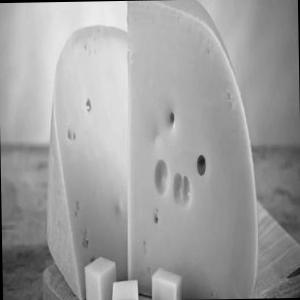cheese: (5, 2, 266, 297)
